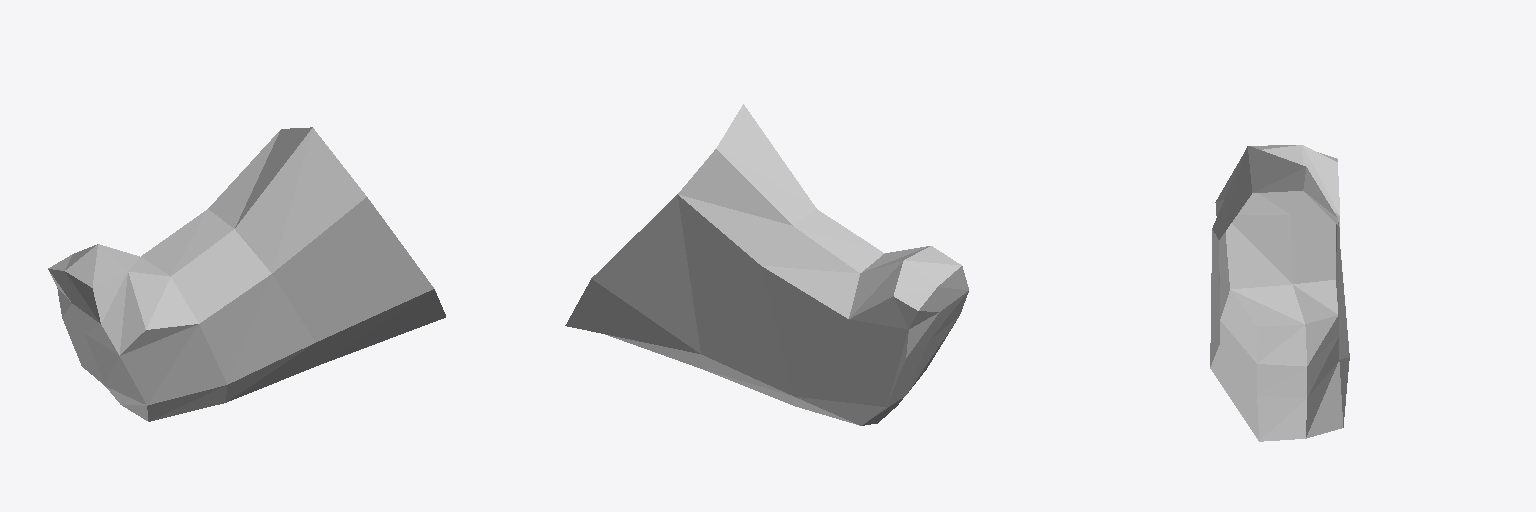
The model's file is IzqTras.obj.
3 renders of one model, left to right at view 1: azimuth 30°, elevation 25°; view 2: azimuth 150°, elevation 25°; view 3: azimuth 270°, elevation 25°, orthographic.
Visible parts, largest first — view 1: polySurface16 polySurface13 polySurface11 panda; view 2: polySurface16 polySurface13 polySurface11 panda; view 3: polySurface16 polySurface13 polySurface11 panda.
Part boxes in pixels (bbox=[...]): polySurface16 polySurface13 polySurface11 panda: bbox=[48, 127, 445, 421]; polySurface16 polySurface13 polySurface11 panda: bbox=[565, 104, 968, 425]; polySurface16 polySurface13 polySurface11 panda: bbox=[1210, 145, 1349, 441].
Bounding box in the file's own units: 0.6368 × 0.4403 × 0.2136.